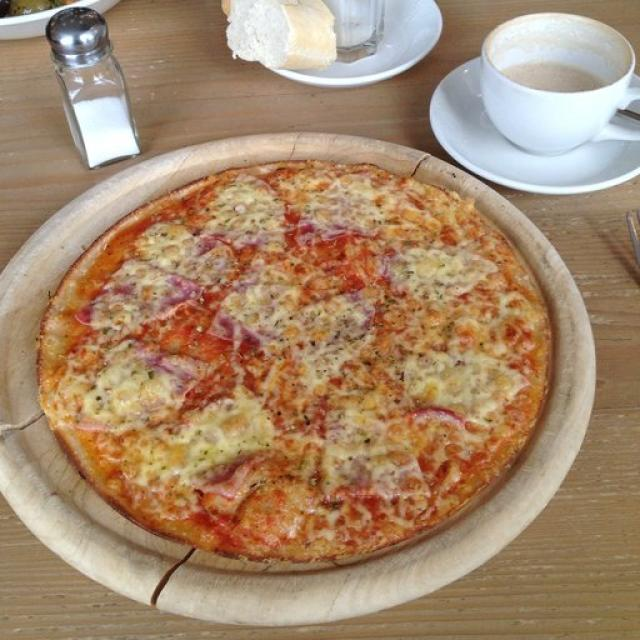Pizza: (46, 172, 552, 560)
